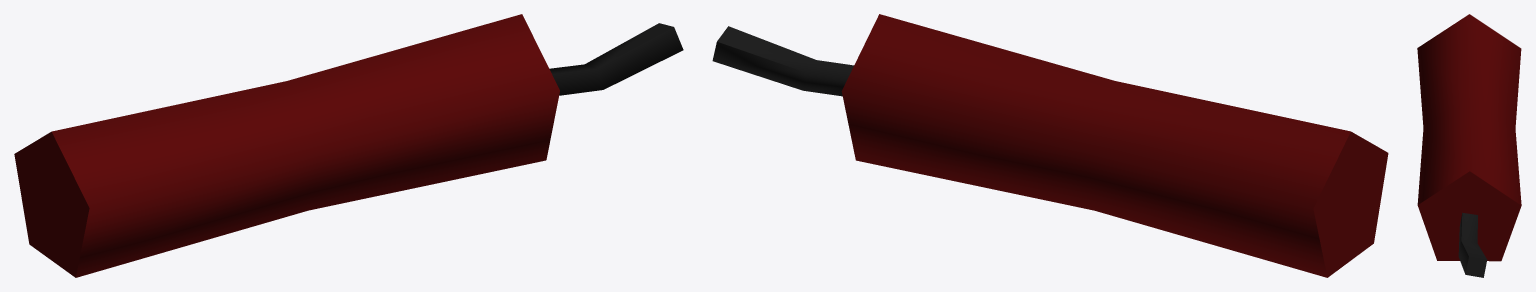
File: dynamite_colour.FBX
3 views of the same model, side by side, from view 1: azimuth 30°, elevation 25°; view 2: azimuth 150°, elevation 25°; view 3: azimuth 270°, elevation 25° (orthographic). The views are drawn at different scales.
Parts seen in each view (by area): view 1: dynamite; view 2: dynamite; view 3: dynamite.
Part boxes in pixels (<box>): dynamite: <box>14,14,683,277</box>; dynamite: <box>712,14,1388,277</box>; dynamite: <box>1417,14,1521,277</box>.
Bounding box in the file's own units: 277 × 55.69 × 57.47.
